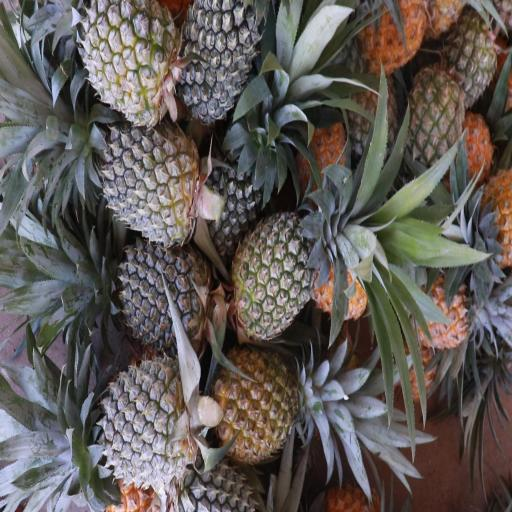------------------------------: (234, 211, 334, 334), (86, 0, 175, 128), (214, 342, 306, 455), (402, 68, 467, 172)
Pineapple - v8 v1: (363, 0, 428, 84)
